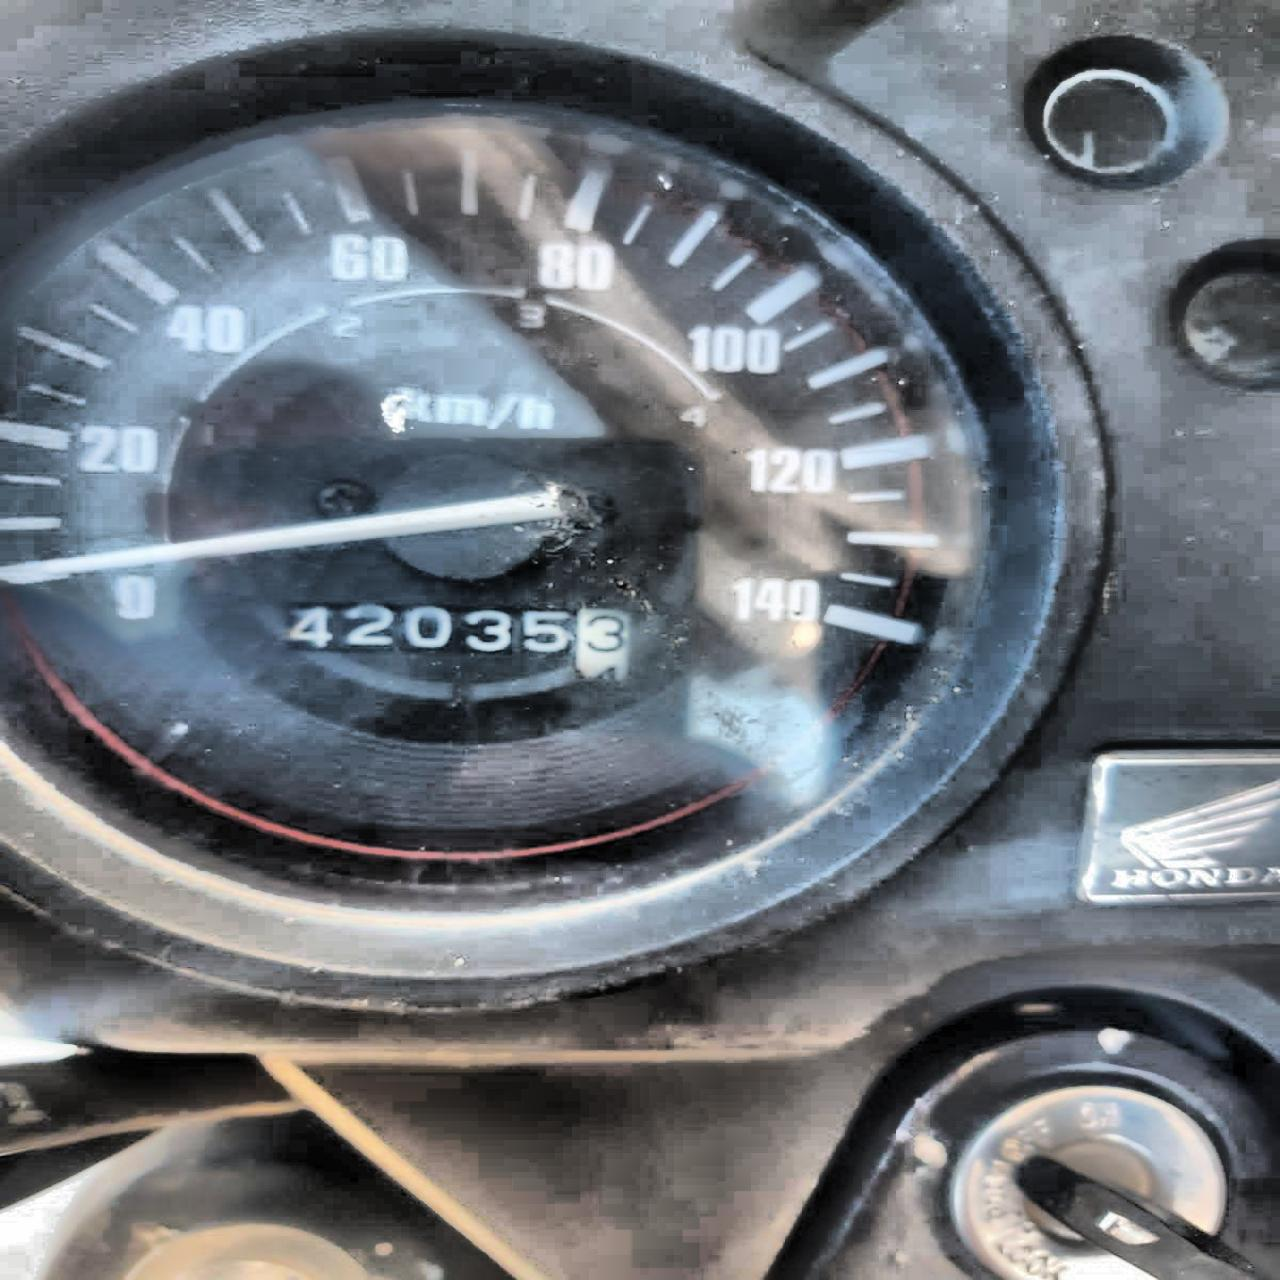0: (406, 606, 452, 648)
2: (345, 605, 394, 646)
3: (465, 608, 512, 652), (584, 613, 625, 653)
4: (290, 605, 332, 647)
5: (523, 611, 568, 652)
odometer: (265, 594, 641, 668)
